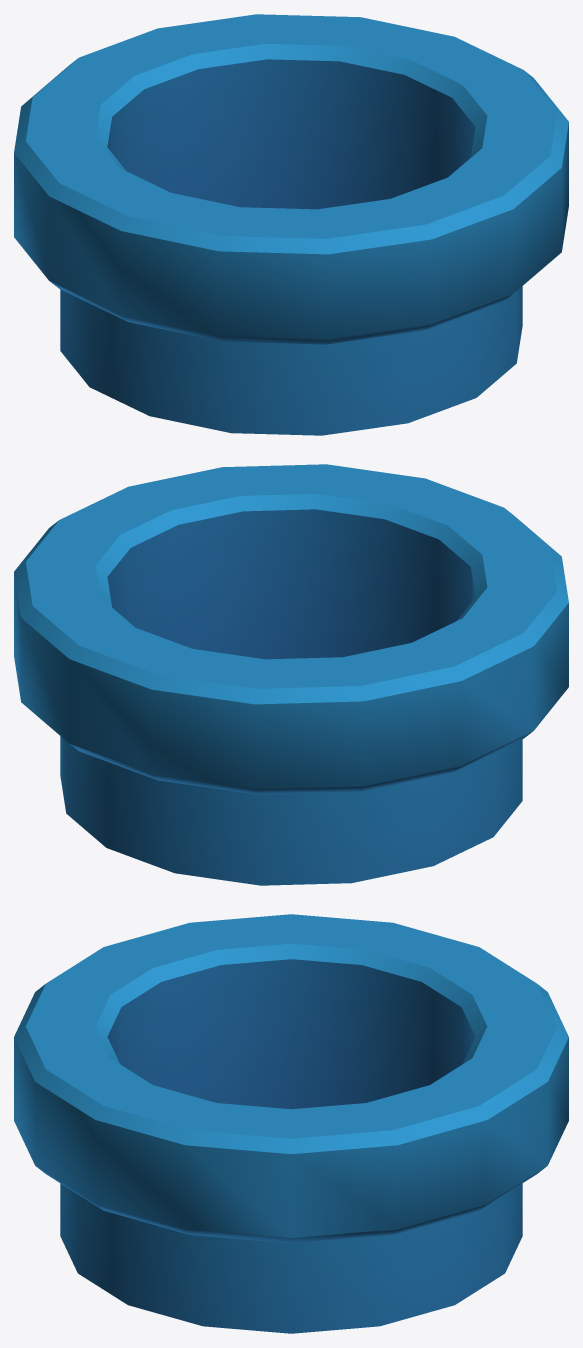
The model's file is pipe_end_blue.glb.
3 views of the same model, one above another, from view 1: azimuth 30°, elevation 25°; view 2: azimuth 150°, elevation 25°; view 3: azimuth 270°, elevation 25° (orthographic).
Parts seen in each view (by area): view 1: pipe_end_blue; view 2: pipe_end_blue; view 3: pipe_end_blue.
Boxes of the visible parts, box(x1,y1,x2,y2) form: pipe_end_blue: box(14, 14, 568, 435); pipe_end_blue: box(14, 464, 568, 885); pipe_end_blue: box(14, 914, 568, 1333).
Size of the model in its own units: 2.4 by 1 by 2.4.
1 material, 1 textured.
